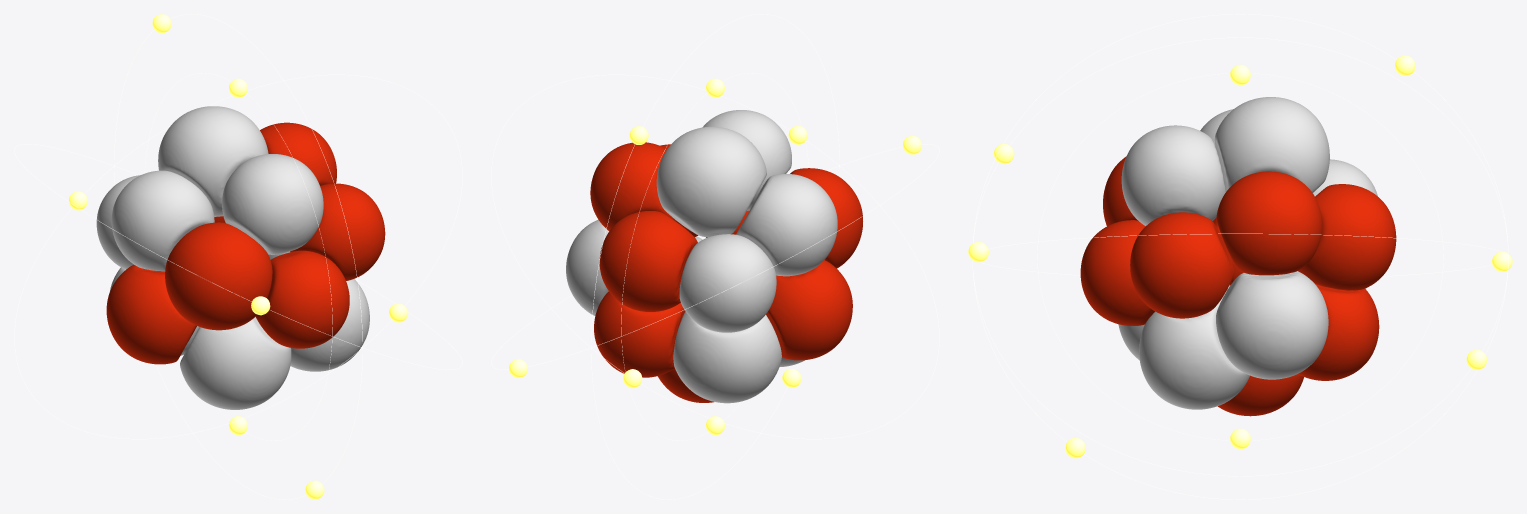
File: premio.glb
The picture shows the model from 3 angles, left to right: view 1: azimuth 30°, elevation 25°; view 2: azimuth 150°, elevation 25°; view 3: azimuth 270°, elevation 25°; orthographic projection. The views are drawn at different scales.
Visible parts, largest first — view 1: proton_3, neitron_2, circle1_0, electron_1; view 2: proton_3, neitron_2, circle1_0, electron_1; view 3: neitron_2, proton_3, circle1_0, electron_1.
Part boxes in pixels (x1,y1,x2,y2): proton_3: [96, 106, 369, 409]; neitron_2: [106, 122, 385, 364]; circle1_0: [14, 14, 462, 499]; electron_1: [68, 14, 408, 499]; proton_3: [566, 110, 837, 403]; neitron_2: [590, 142, 862, 402]; circle1_0: [491, 14, 939, 499]; electron_1: [509, 78, 921, 435]; neitron_2: [1080, 156, 1396, 416]; proton_3: [1118, 97, 1377, 409]; circle1_0: [972, 14, 1508, 499]; electron_1: [968, 55, 1512, 458].
Bounding box in the file's own units: 2.08 × 2.4 × 2.44.
